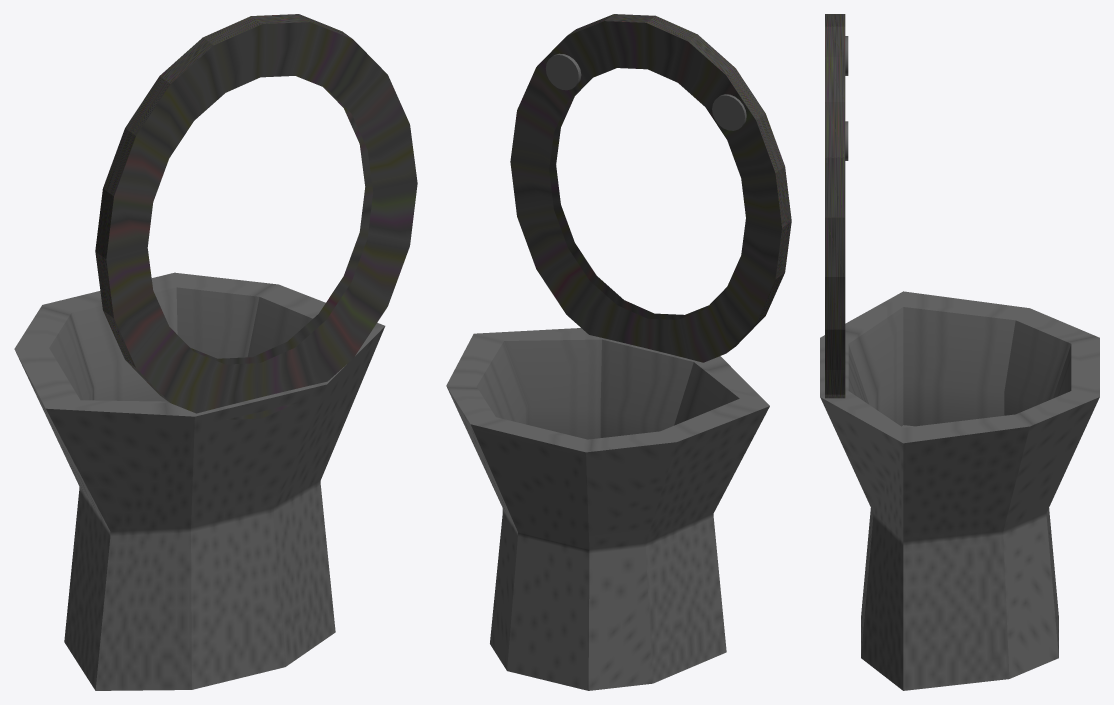
The model's file is Toitel.fbx.
3 views of the same model, side by side, from view 1: azimuth 30°, elevation 25°; view 2: azimuth 150°, elevation 25°; view 3: azimuth 270°, elevation 25° (orthographic). The views are drawn at different scales.
Visible parts, largest first — view 1: pCube3, pCylinder1; view 2: pCube3, pCylinder1, pCylinder2, pCylinder3; view 3: pCube3, pCylinder1.
Part boxes in pixels (x1,y1,x2,y2): pCube3: (14,272,385,690); pCylinder1: (95,14,417,419); pCube3: (446,328,769,690); pCylinder1: (510,14,791,362); pCylinder2: (545,53,581,90); pCylinder3: (712,94,746,130); pCube3: (820,291,1099,690); pCylinder1: (825,14,845,398).
Bounding box in the file's own units: 2.07 × 3.89 × 1.61.
Materials: 3 (2 with a texture image).
